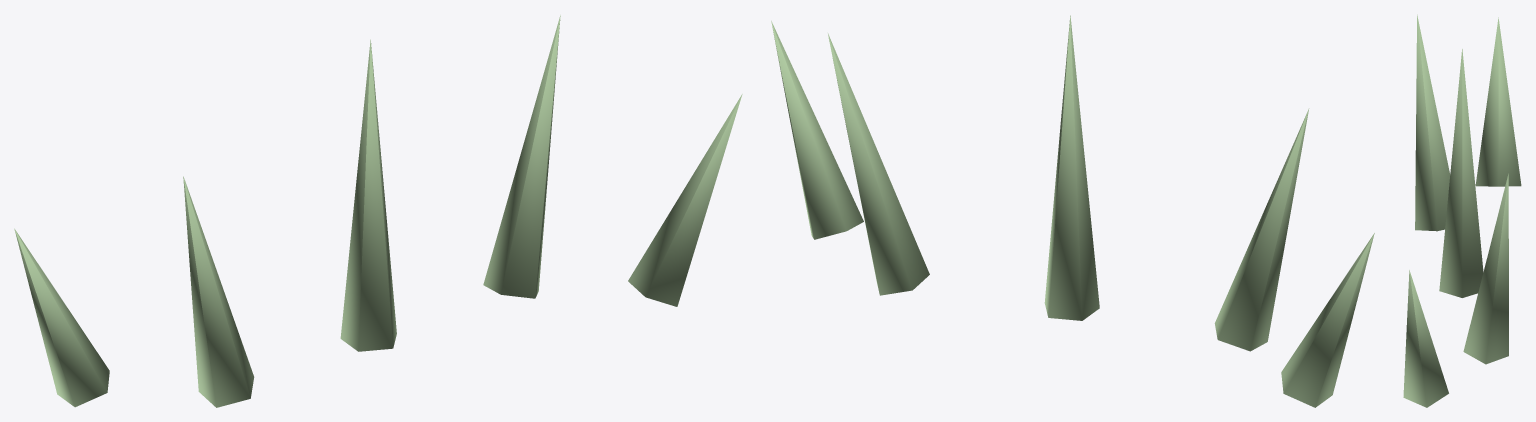
Rendered from shrub_04.glb.
3 renders of one model, left to right at view 1: azimuth 30°, elevation 25°; view 2: azimuth 150°, elevation 25°; view 3: azimuth 270°, elevation 25°, orthographic. The views are drawn at different scales.
Visible parts, largest first — view 1: shrub_04_tuft; view 2: shrub_04_tuft; view 3: shrub_04_tuft.
Boxes of the visible parts, x1=… form: shrub_04_tuft: x1=14, y1=15, x2=742, y2=407; shrub_04_tuft: x1=771, y1=15, x2=1374, y2=407; shrub_04_tuft: x1=1403, y1=14, x2=1521, y2=407.
Size of the model in its own units: 0.5129 by 0.2277 by 0.0977.
